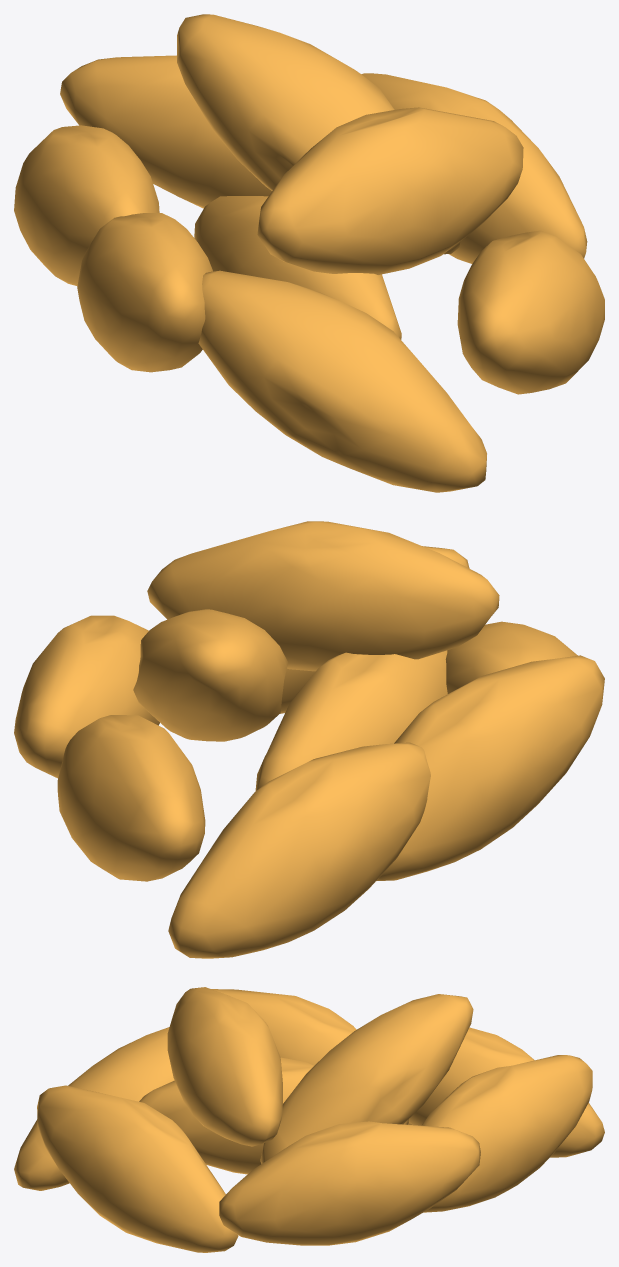
The model's file is kopytka.gltf.
3 renders of one model, top to bottom at view 1: azimuth 30°, elevation 25°; view 2: azimuth 150°, elevation 25°; view 3: azimuth 270°, elevation 25°, orthographic. The views are drawn at different scales.
Parts seen in each view (by area): view 1: Sphere.005, Sphere.008, Sphere.007, Sphere.006, Sphere.004, Sphere.002, Sphere.003, Sphere.001, Sphere; view 2: Sphere.003, Sphere.008, Sphere.004, Sphere.002, Sphere.007, Sphere, Sphere.001, Sphere.005, Sphere.006; view 3: Sphere.001, Sphere.006, Sphere.007, Sphere.002, Sphere.008, Sphere.005, Sphere.004, Sphere.003, Sphere.
Boxes of the visible parts, x1,y1,x2,y2 form: Sphere.005: [198, 270, 486, 492]; Sphere.008: [257, 107, 523, 274]; Sphere.007: [177, 14, 460, 254]; Sphere.006: [457, 230, 604, 394]; Sphere.004: [77, 213, 212, 372]; Sphere.002: [60, 55, 271, 208]; Sphere.003: [14, 125, 159, 285]; Sphere.001: [361, 73, 587, 263]; Sphere: [194, 196, 401, 339]; Sphere.003: [168, 742, 430, 958]; Sphere.008: [147, 521, 499, 671]; Sphere.004: [376, 655, 604, 881]; Sphere.002: [57, 715, 205, 881]; Sphere.007: [133, 609, 288, 741]; Sphere: [255, 650, 447, 791]; Sphere.001: [14, 615, 159, 778]; Sphere.005: [445, 621, 577, 693]; Sphere.006: [280, 546, 469, 713]; Sphere.001: [219, 1121, 480, 1245]; Sphere.006: [37, 1085, 238, 1252]; Sphere.007: [260, 994, 473, 1163]; Sphere.002: [421, 1055, 592, 1212]; Sphere.008: [167, 987, 282, 1146]; Sphere.005: [14, 1027, 174, 1190]; Sphere.004: [211, 989, 412, 1124]; Sphere.003: [408, 1027, 604, 1157]; Sphere: [139, 1057, 408, 1174].
Bounding box in the file's own units: 0.2706 × 0.1445 × 0.3828.
Materials: 1 (1 with a texture image).
